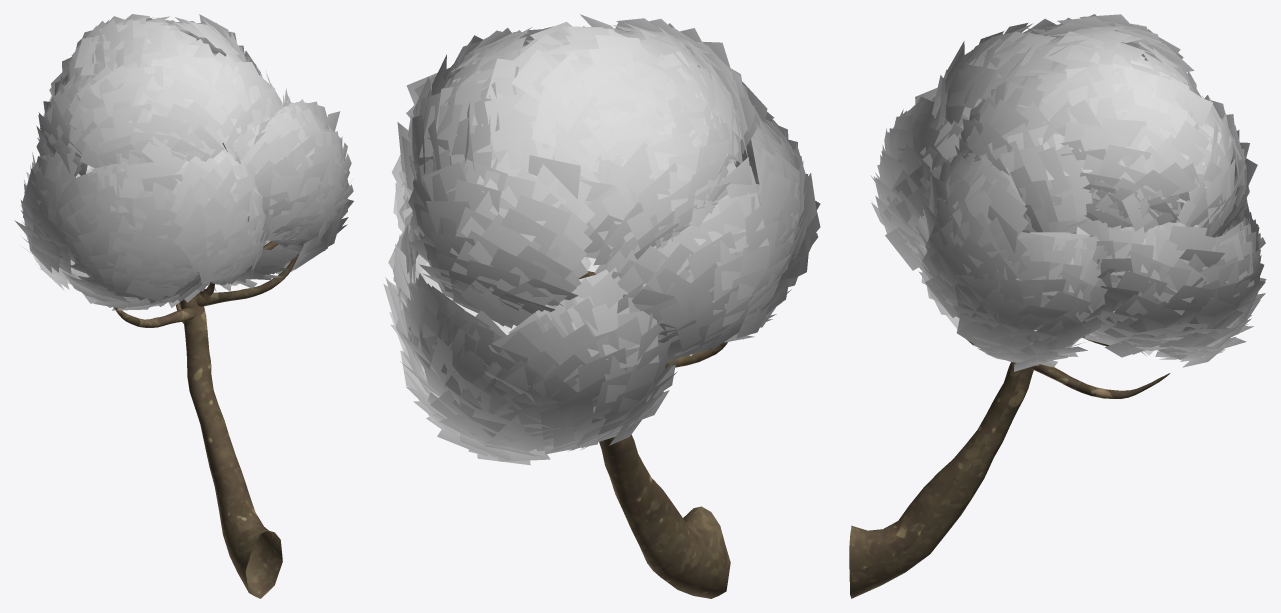
The model's file is StandardTreeCliff_Medium_LOD.fbx.
3 renders of one model, left to right at view 1: azimuth 30°, elevation 25°; view 2: azimuth 150°, elevation 25°; view 3: azimuth 270°, elevation 25°, orthographic. The views are drawn at different scales.
Visible parts, largest first — view 1: Top_Tree_Cliff_Medium_LOD_0, Standar_Trunk_Medium_Cliff_LOD_0; view 2: Top_Tree_Cliff_Medium_LOD_0, Standar_Trunk_Medium_Cliff_LOD_0; view 3: Top_Tree_Cliff_Medium_LOD_0, Standar_Trunk_Medium_Cliff_LOD_0.
Boxes of the visible parts, box(x1,y1,x2,y2) form: Top_Tree_Cliff_Medium_LOD_0: box(14, 14, 353, 310); Standar_Trunk_Medium_Cliff_LOD_0: box(114, 240, 302, 598); Top_Tree_Cliff_Medium_LOD_0: box(383, 14, 820, 465); Standar_Trunk_Medium_Cliff_LOD_0: box(578, 271, 730, 598); Top_Tree_Cliff_Medium_LOD_0: box(870, 14, 1266, 371); Standar_Trunk_Medium_Cliff_LOD_0: box(849, 336, 1170, 598).
Size of what is drawn, in the model's own units: 1553 by 2524 by 1673.
